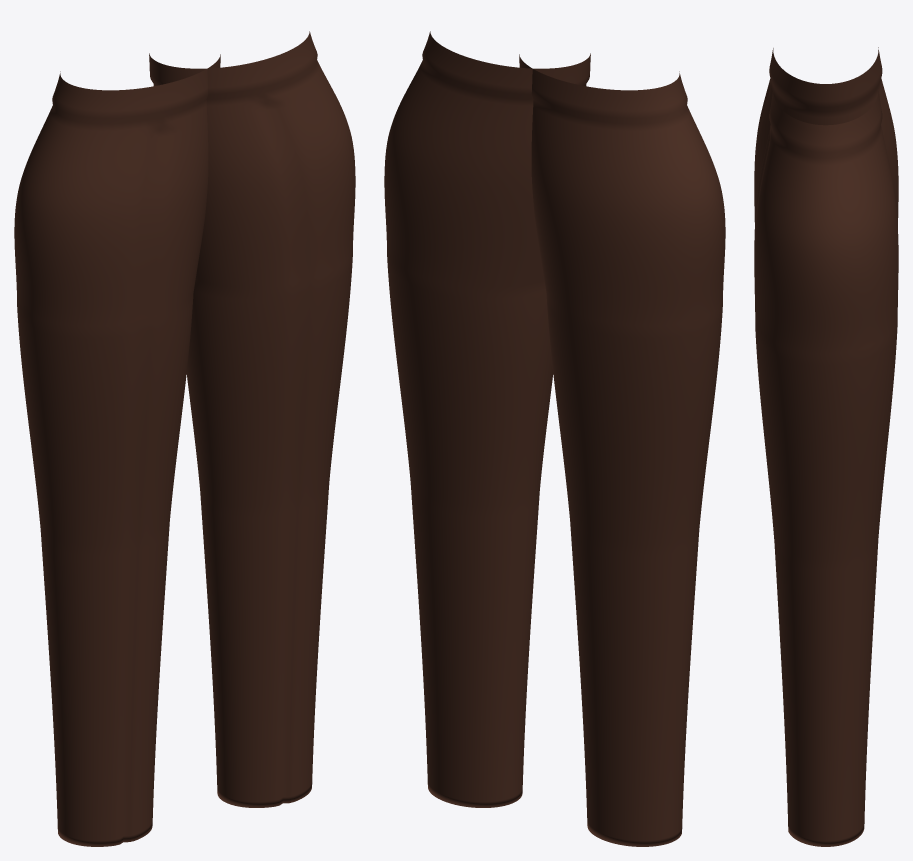
Rendered from calca-cenoura.glb.
The picture shows the model from 3 angles, left to right: view 1: azimuth 30°, elevation 25°; view 2: azimuth 150°, elevation 25°; view 3: azimuth 270°, elevation 25°; orthographic projection. The views are drawn at different scales.
Visible parts, largest first — view 1: calca-cenoura; view 2: calca-cenoura; view 3: calca-cenoura.
Boxes of the visible parts, x1,y1,x2,y2 form: calca-cenoura: (14,31,355,846); calca-cenoura: (384,31,725,846); calca-cenoura: (754,47,898,846).
Bounding box in the file's own units: 0.4181 × 0.93 × 0.1688.
